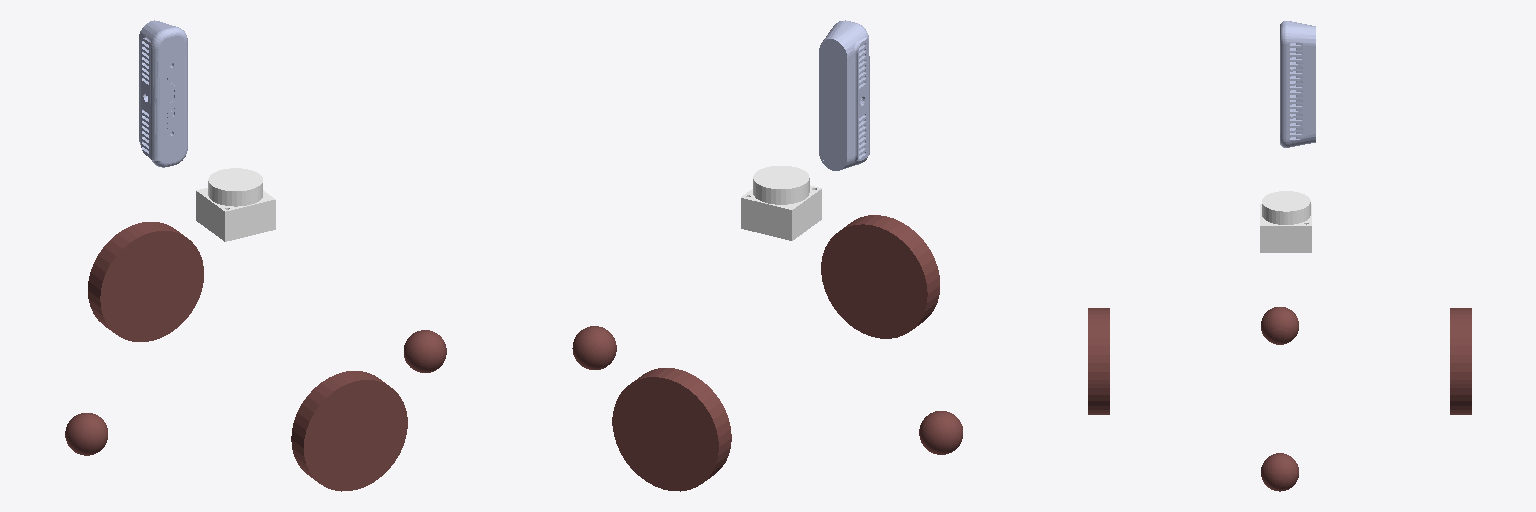
URDF robot description (roomba_jaya):
<?xml version="1.0" encoding="utf-8"?>
<!-- This URDF was automatically created by SolidWorks to URDF Exporter! Originally created by [author] ([email redacted]) 
     Commit Version: 1.6.0-4-g7f85cfe  Build Version: 1.6.7995.38578
     For more information, please see http://wiki.ros.org/sw_urdf_exporter -->
<robot
  name="roomba_jaya">
  <link
    name="base_link">
    <inertial>
      <origin
        xyz="-0.00859158753499085 -9.05568164151463E-05 0.0872890863781433"
        rpy="0 0 0" />
      <mass
        value="0.751837307136149" />
      <inertia
        ixx="0.00414996657164725"
        ixy="7.71718694368022E-07"
        ixz="4.74212613028038E-06"
        iyy="0.00292467094495166"
        iyz="-1.0354956289207E-08"
        izz="0.0070301062223736" />
    </inertial>
    <visual>
      <origin
        xyz="0 0 0"
        rpy="0 0 0" />
      <geometry>
        <mesh
          filename="package://roomba_jaya/meshes/base_link.STL" />
      </geometry>
      <material
        name="">
        <color
          rgba="1 1 1 0.35" />
      </material>
    </visual>
    <collision>
      <origin
        xyz="0 0 0"
        rpy="0 0 0" />
      <geometry>
        <mesh
          filename="package://roomba_jaya/meshes/base_link.STL" />
      </geometry>
    </collision>
  </link>
  <link
    name="rueda_derecha_link">
    <inertial>
      <origin
        xyz="3.747E-16 4.3368E-18 0.0075"
        rpy="0 0 0" />
      <mass
        value="0.54355" />
      <inertia
        ixx="0.0001863"
        ixy="6.0661E-33"
        ixz="8.2961E-18"
        iyy="0.0001863"
        iyz="1.0791E-19"
        izz="0.00035222" />
    </inertial>
    <visual>
      <origin
        xyz="0 0 0"
        rpy="0 0 0" />
      <geometry>
        <mesh
          filename="package://roomba_jaya/meshes/rueda_derecha_link.STL" />
      </geometry>
      <material
        name="">
        <color
          rgba="0.53725 0.34902 0.33725 1" />
      </material>
    </visual>
    <collision>
      <origin
        xyz="0 0 0"
        rpy="0 0 0" />
      <geometry>
        <mesh
          filename="package://roomba_jaya/meshes/rueda_derecha_link.STL" />
      </geometry>
    </collision>
  </link>
  <joint
    name="derecha_joint"
    type="continuous">
    <origin
      xyz="0.0068533 -0.12201 0.020207"
      rpy="1.5708 1.5708 0" />
    <parent
      link="base_link" />
    <child
      link="rueda_derecha_link" />
    <axis
      xyz="0 0 1" />
    <limit
      effort="100"
      velocity="100" />
    <dynamics
      damping="0.1"
      friction="0.1" />
  </joint>
  <link
    name="rueda_izquierda_link">
    <inertial>
      <origin
        xyz="-5.0395E-12 1.7347E-18 -0.0075"
        rpy="0 0 0" />
      <mass
        value="0.54355" />
      <inertia
        ixx="0.0001863"
        ixy="-3.9477E-29"
        ixz="1.1149E-13"
        iyy="0.0001863"
        iyz="-5.7637E-20"
        izz="0.00035222" />
    </inertial>
    <visual>
      <origin
        xyz="0 0 0"
        rpy="0 0 0" />
      <geometry>
        <mesh
          filename="package://roomba_jaya/meshes/rueda_izquierda_link.STL" />
      </geometry>
      <material
        name="">
        <color
          rgba="0.53725 0.34902 0.33725 1" />
      </material>
    </visual>
    <collision>
      <origin
        xyz="0 0 0"
        rpy="0 0 0" />
      <geometry>
        <mesh
          filename="package://roomba_jaya/meshes/rueda_izquierda_link.STL" />
      </geometry>
    </collision>
  </link>
  <joint
    name="izquierda_joint"
    type="continuous">
    <origin
      xyz="0.006881 0.12199 0.020249"
      rpy="1.5708 1.5708 0" />
    <parent
      link="base_link" />
    <child
      link="rueda_izquierda_link" />
    <axis
      xyz="0 0 1" />
    <limit
      effort="100"
      velocity="100" />
    <dynamics
      damping="0.1"
      friction="0.1" />
  </joint>
  <link
    name="castor_front_link">
    <inertial>
      <origin
        xyz="0 -3.2526E-19 1.3878E-17"
        rpy="0 0 0" />
      <mass
        value="0.04476" />
      <inertia
        ixx="2.0225E-06"
        ixy="-8.3522E-39"
        ixz="1.8655E-30"
        iyy="2.0225E-06"
        iyz="5.8298E-32"
        izz="2.0225E-06" />
    </inertial>
    <visual>
      <origin
        xyz="0 0 0"
        rpy="0 0 0" />
      <geometry>
        <mesh
          filename="package://roomba_jaya/meshes/castor_front_link.STL" />
      </geometry>
      <material
        name="">
        <color
          rgba="0.53725 0.34902 0.33725 1" />
      </material>
    </visual>
    <collision>
      <origin
        xyz="0 0 0"
        rpy="0 0 0" />
      <geometry>
        <mesh
          filename="package://roomba_jaya/meshes/castor_front_link.STL" />
      </geometry>
    </collision>
  </link>
  <joint
    name="castor_front_joint"
    type="fixed">
    <origin
      xyz="0.12959 0 -0.0051221"
      rpy="0 0 0" />
    <parent
      link="base_link" />
    <child
      link="castor_front_link" />
    <axis
      xyz="0 0 0" />
    <limit
      effort="100"
      velocity="100" />
    <dynamics
      damping="0.1"
      friction="0.1" />
  </joint>
  <link
    name="castor_back_link">
    <inertial>
      <origin
        xyz="-2.7756E-17 2.1684E-19 0"
        rpy="0 0 0" />
      <mass
        value="0.04476" />
      <inertia
        ixx="2.0225E-06"
        ixy="-2.4321E-24"
        ixz="5.8684E-24"
        iyy="2.0225E-06"
        iyz="-7.1433E-23"
        izz="2.0225E-06" />
    </inertial>
    <visual>
      <origin
        xyz="0 0 0"
        rpy="0 0 0" />
      <geometry>
        <mesh
          filename="package://roomba_jaya/meshes/castor_back_link.STL" />
      </geometry>
      <material
        name="">
        <color
          rgba="0.53725 0.34902 0.33725 1" />
      </material>
    </visual>
    <collision>
      <origin
        xyz="0 0 0"
        rpy="0 0 0" />
      <geometry>
        <mesh
          filename="package://roomba_jaya/meshes/castor_back_link.STL" />
      </geometry>
    </collision>
  </link>
  <joint
    name="castor_back_joint"
    type="fixed">
    <origin
      xyz="-0.1045 0 -0.0051221"
      rpy="0 0 0" />
    <parent
      link="base_link" />
    <child
      link="castor_back_link" />
    <axis
      xyz="0 0 0" />
    <limit
      effort="100"
      velocity="100" />
    <dynamics
      damping="0.1"
      friction="0.1" />
  </joint>
  <link
    name="camara_link">
    <inertial>
      <origin
        xyz="1.1261E-05 -0.00013612 0.011556"
        rpy="0 0 0" />
      <mass
        value="0.039891" />
      <inertia
        ixx="2.8501E-06"
        ixy="-3.7742E-11"
        ixz="-6.705E-09"
        iyy="2.5971E-05"
        iyz="1.8203E-08"
        izz="2.634E-05" />
    </inertial>
    <visual>
      <origin
        xyz="0 0 0"
        rpy="0 0 0" />
      <geometry>
        <mesh
          filename="package://roomba_jaya/meshes/camara_link.STL" />
      </geometry>
      <material
        name="">
        <color
          rgba="0.79216 0.81961 0.93333 1" />
      </material>
    </visual>
    <collision>
      <origin
        xyz="0 0 0"
        rpy="0 0 0" />
      <geometry>
        <mesh
          filename="package://roomba_jaya/meshes/camara_link.STL" />
      </geometry>
    </collision>
  </link>
  <joint
    name="camara_joint"
    type="fixed">
    <origin
      xyz="-0.045307 0 0.20223"
      rpy="1.5708 0 1.5708" />
    <parent
      link="base_link" />
    <child
      link="camara_link" />
    <axis
      xyz="0 0 0" />
    <limit
      effort="100"
      velocity="100" />
    <dynamics
      damping="0.1"
      friction="0.1" />
  </joint>
  <link
    name="lidar_link">
    <inertial>
      <origin
        xyz="0 0 0"
        rpy="0 0 0" />
      <mass
        value="0.004" />
      <inertia
        ixx="1E-06"
        ixy="4E-06"
        ixz="5E-07"
        iyy="1E-08"
        iyz="1.2E-10"
        izz="1.3E-12" />
    </inertial>
    <visual>
      <origin
        xyz="0 0 0"
        rpy="0 0 0" />
      <geometry>
        <mesh
          filename="package://roomba_jaya/meshes/lidar_link.STL" />
      </geometry>
      <material
        name="">
        <color
          rgba="1 1 1 1" />
      </material>
    </visual>
    <collision>
      <origin
        xyz="0 0 0"
        rpy="0 0 0" />
      <geometry>
        <mesh
          filename="package://roomba_jaya/meshes/lidar_link.STL" />
      </geometry>
    </collision>
  </link>
  <joint
    name="lidar_joint"
    type="fixed">
    <origin
      xyz="0.0010554 0.0042304 0.10673"
      rpy="0 0 0" />
    <parent
      link="base_link" />
    <child
      link="lidar_link" />
    <axis
      xyz="0 0 0" />
    <limit
      effort="100"
      velocity="100" />
    <dynamics
      damping="0.1"
      friction="0.1" />
  </joint>
</robot>

--- Facts derived from the render (not from the file) ---
Views: 3 orthographic renders of the robot side by side, from view 1: azimuth 30°, elevation 25°; view 2: azimuth 150°, elevation 25°; view 3: azimuth 270°, elevation 25°.
Model roomba_jaya with 7 links and 6 joints (2 continuous, 4 fixed), rooted at base_link, posed every joint at zero.
Visible links, largest first — view 1: rueda_derecha_link, rueda_izquierda_link, camara_link, lidar_link, castor_front_link, castor_back_link; view 2: rueda_derecha_link, rueda_izquierda_link, camara_link, lidar_link, castor_front_link, castor_back_link; view 3: camara_link, lidar_link, rueda_derecha_link, rueda_izquierda_link, castor_front_link, castor_back_link.
Link boxes in pixels (<box>): rueda_derecha_link: <box>291,371,407,491</box>; rueda_izquierda_link: <box>88,222,203,341</box>; camara_link: <box>139,20,187,167</box>; lidar_link: <box>196,168,275,241</box>; castor_front_link: <box>404,330,446,372</box>; castor_back_link: <box>65,413,107,455</box>; rueda_derecha_link: <box>821,215,939,338</box>; rueda_izquierda_link: <box>612,368,731,491</box>; camara_link: <box>819,20,869,170</box>; lidar_link: <box>741,166,821,240</box>; castor_front_link: <box>572,326,616,369</box>; castor_back_link: <box>919,411,962,454</box>; camara_link: <box>1280,21,1315,147</box>; lidar_link: <box>1260,191,1311,252</box>; rueda_derecha_link: <box>1088,308,1109,414</box>; rueda_izquierda_link: <box>1450,308,1471,414</box>; castor_front_link: <box>1261,453,1298,491</box>; castor_back_link: <box>1261,307,1298,344</box>.
Size in the robot's own frame: 0.26 by 0.259 by 0.2656 metres.
6 mesh visuals loaded from 7 distinct referenced files (6 binary STL); not drawn: 1 (reference not matched to a file when rendering).
